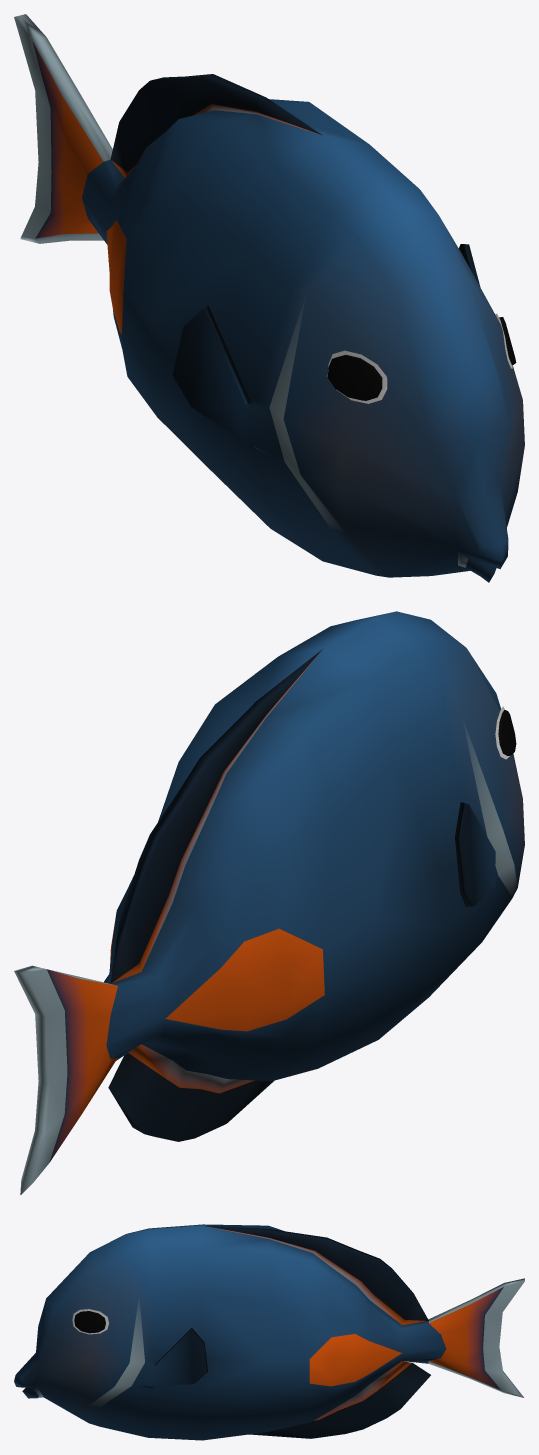
Rendered from underwater-fish-tang-fish_v3.fbx.
The picture shows the model from 3 angles, top to bottom: view 1: azimuth 30°, elevation 25°; view 2: azimuth 150°, elevation 25°; view 3: azimuth 270°, elevation 25°; orthographic projection. The views are drawn at different scales.
Parts seen in each view (by area): view 1: Tang Fish_v3; view 2: Tang Fish_v3; view 3: Tang Fish_v3.
Part boxes in pixels (x1,y1,x2,y2): Tang Fish_v3: (14,14,524,582); Tang Fish_v3: (14,611,524,1194); Tang Fish_v3: (14,1224,524,1440).
Bounding box in the file's own units: 0.0886 × 0.1143 × 0.25.
